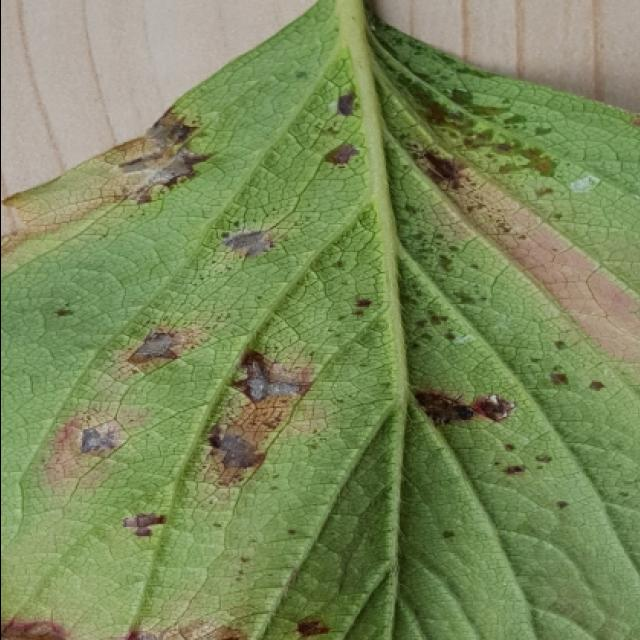Angular Leafspot: (2, 5, 640, 638)
